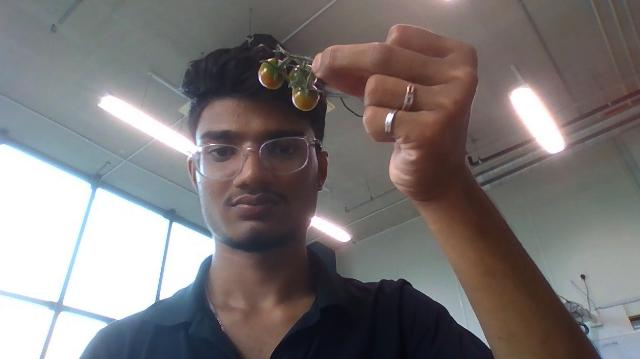Fully Grown: (258, 60, 287, 90), (292, 86, 320, 112)
